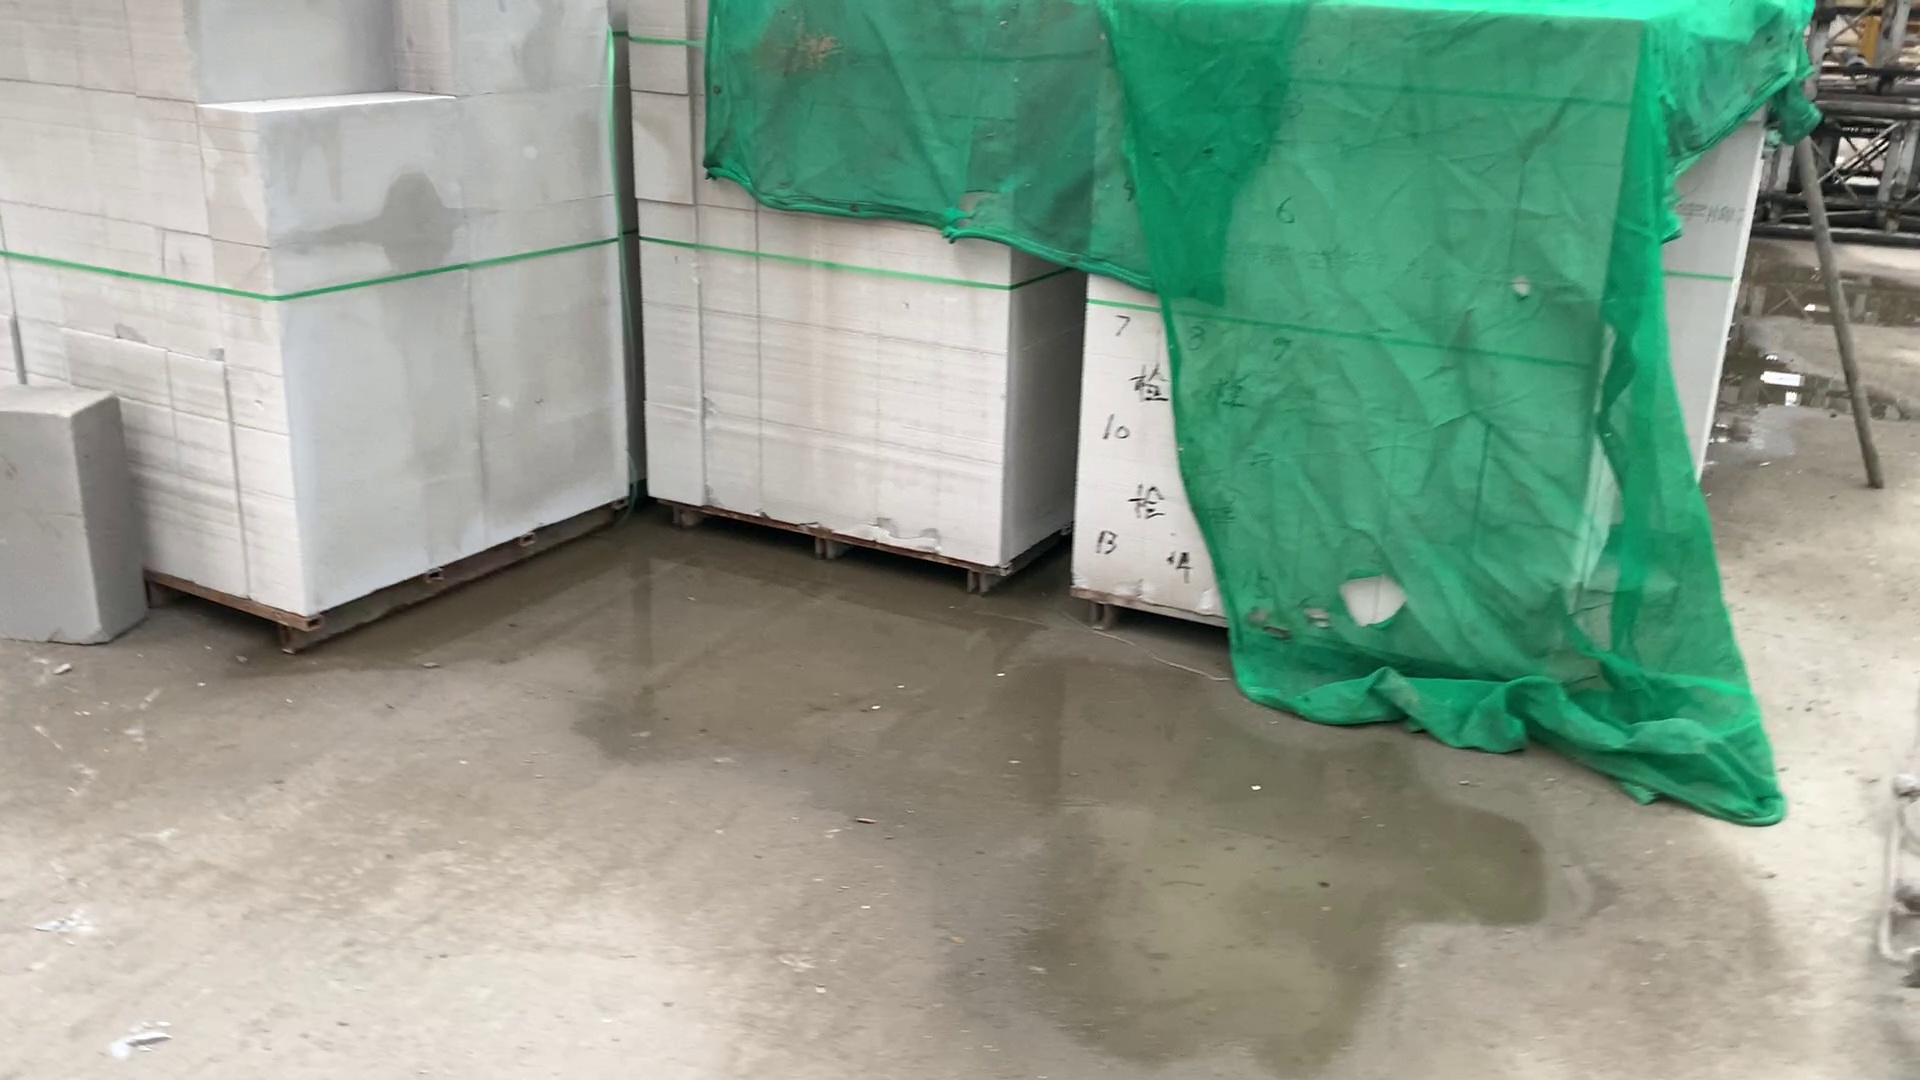brickwork: (3, 3, 637, 626), (1085, 1, 1648, 632), (644, 1, 1042, 588), (1656, 11, 1760, 588)
